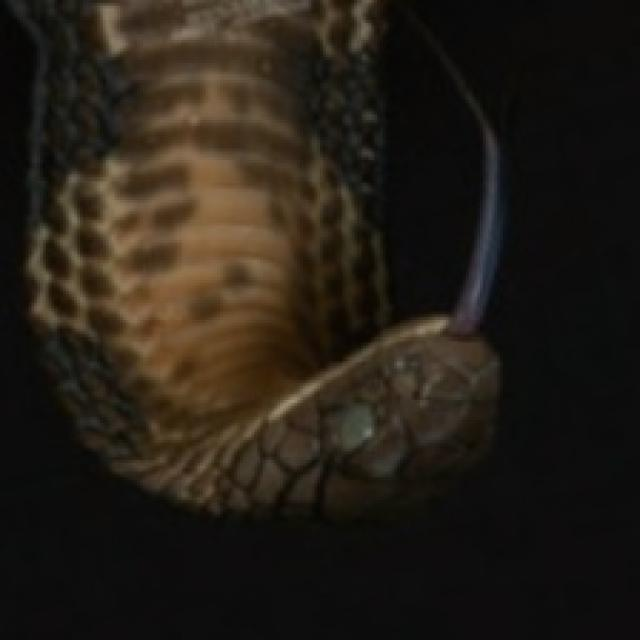king cobra: (6, 0, 500, 514)
